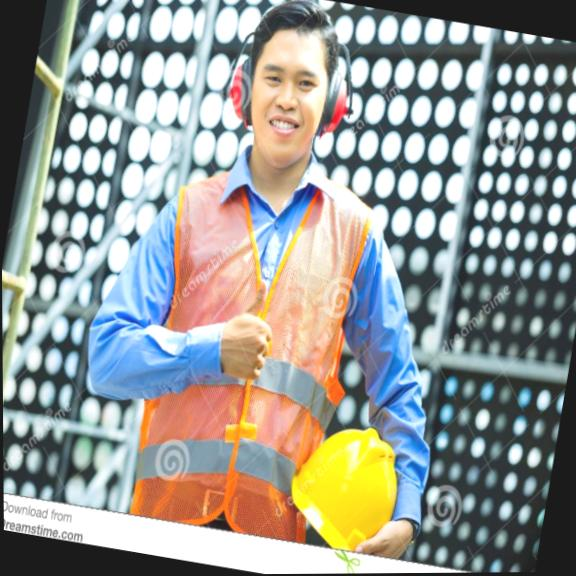safety_vest: (57, 140, 418, 548)
